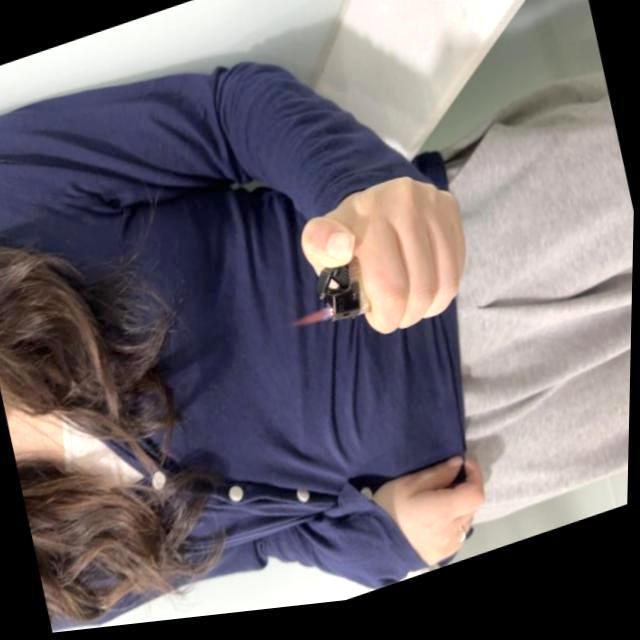fire: (290, 312, 338, 341)
